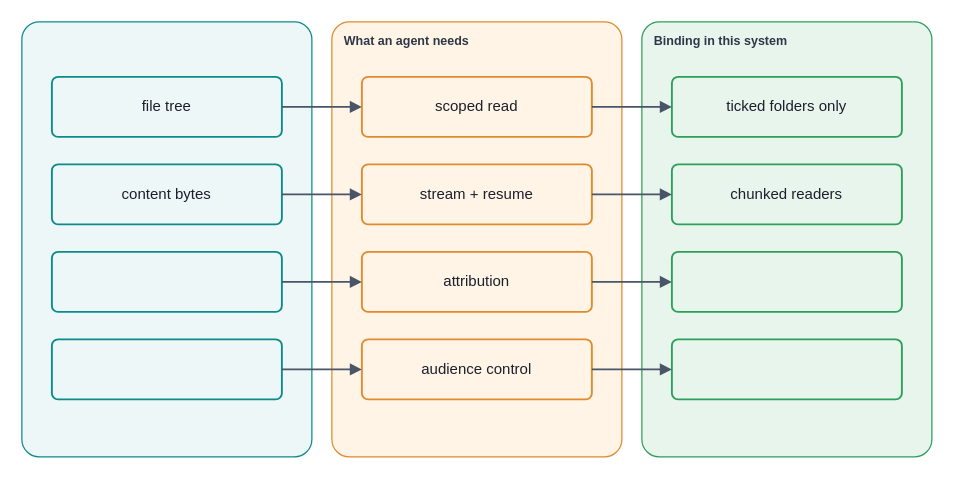
This 954x479 diagram has some shape labels left out. The box of each missing label's shape, as (x1, y1, x2, y2) in pixels:
Drive primitives: (21, 21, 312, 457)
market + code: (670, 338, 902, 400)
owner identity: (50, 250, 282, 312)
per-owner agent: (670, 250, 902, 312)
share links: (50, 338, 282, 400)
